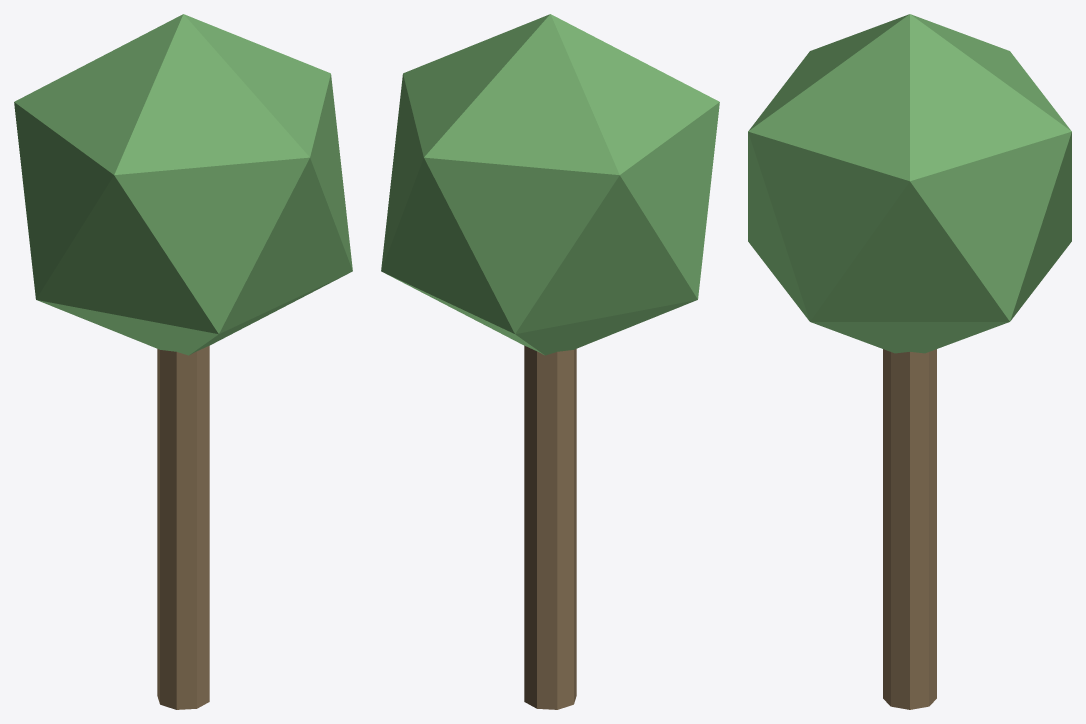
File: tree_01.glb
The picture shows the model from 3 angles, left to right: view 1: azimuth 30°, elevation 25°; view 2: azimuth 150°, elevation 25°; view 3: azimuth 270°, elevation 25°; orthographic projection.
Visible parts, largest first — view 1: TreeCrown, TreeTrunk; view 2: TreeCrown, TreeTrunk; view 3: TreeCrown, TreeTrunk.
Boxes of the visible parts, box(x1,y1,x2,y2) form: TreeCrown: box(14, 14, 352, 355); TreeTrunk: box(157, 345, 209, 709); TreeCrown: box(381, 14, 719, 355); TreeTrunk: box(524, 345, 576, 709); TreeCrown: box(748, 14, 1071, 353); TreeTrunk: box(883, 349, 936, 709).
Bounding box in the file's own units: 2.77 × 6.15 × 2.64.
